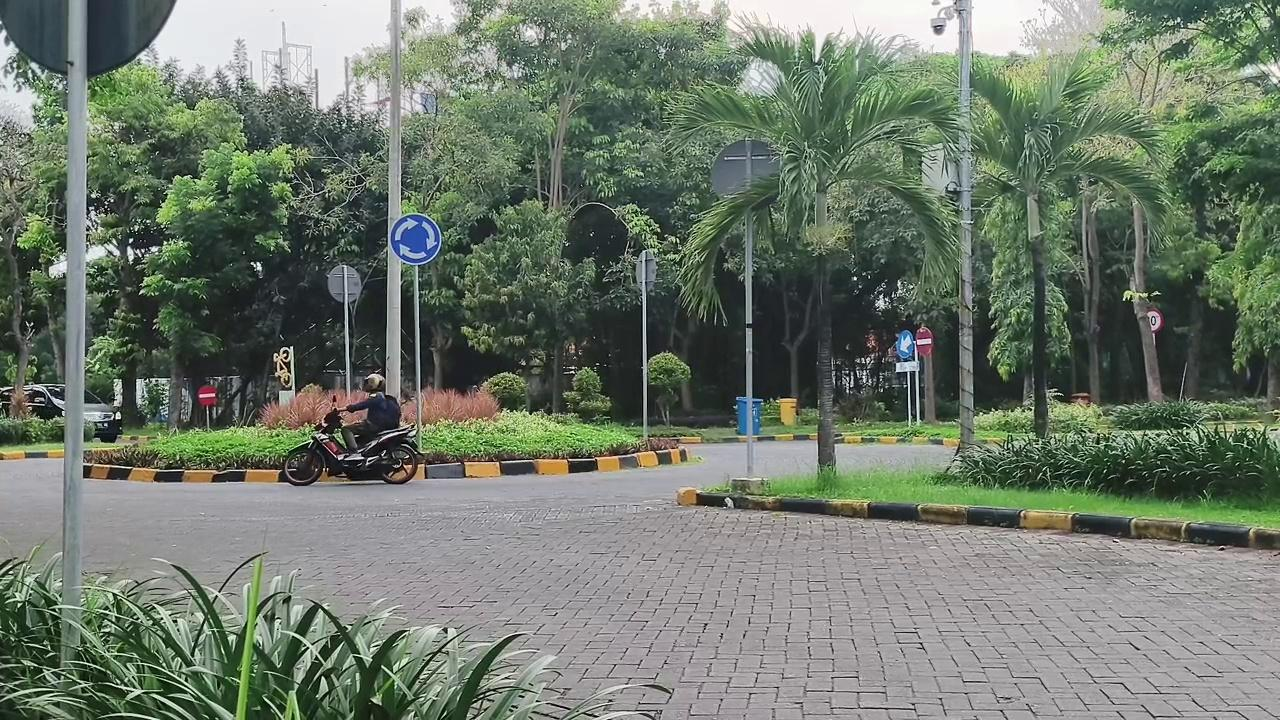Helmet: (343, 373, 399, 451)
Motor: (284, 406, 418, 485)
